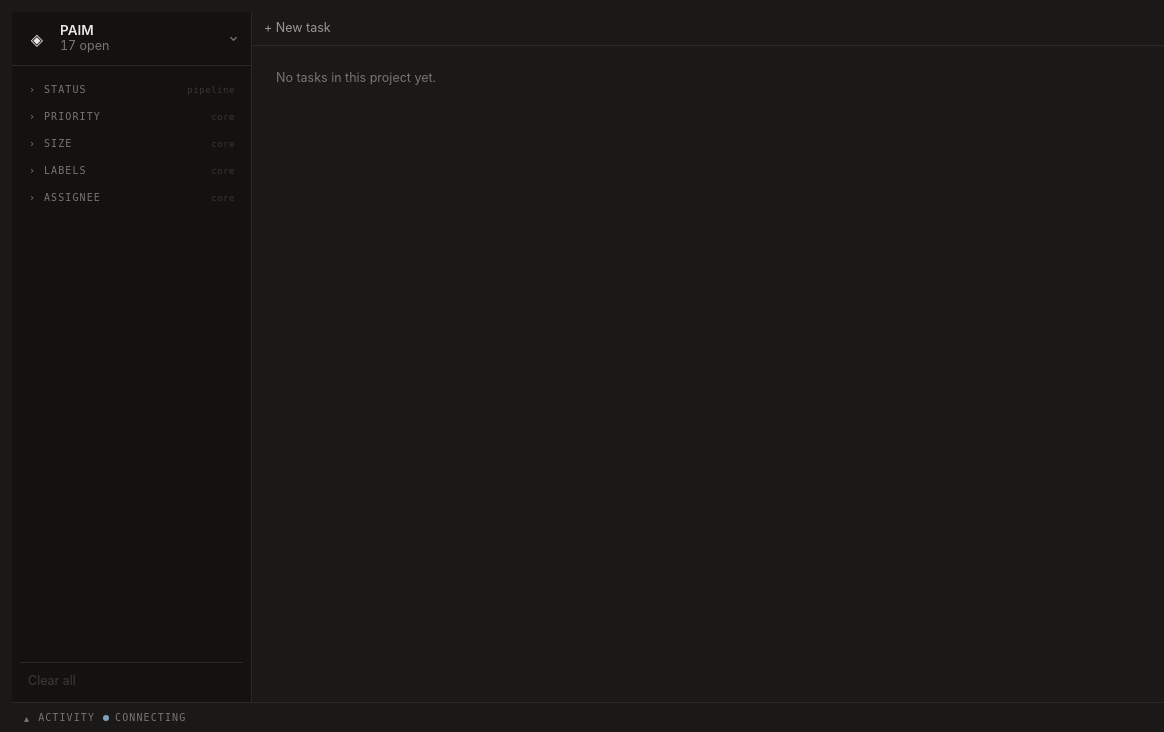
workspace switcher › lists the active projects with their open counts
Click the button "◈ PAIM 17 open": (132, 39) [12,12,251,66]
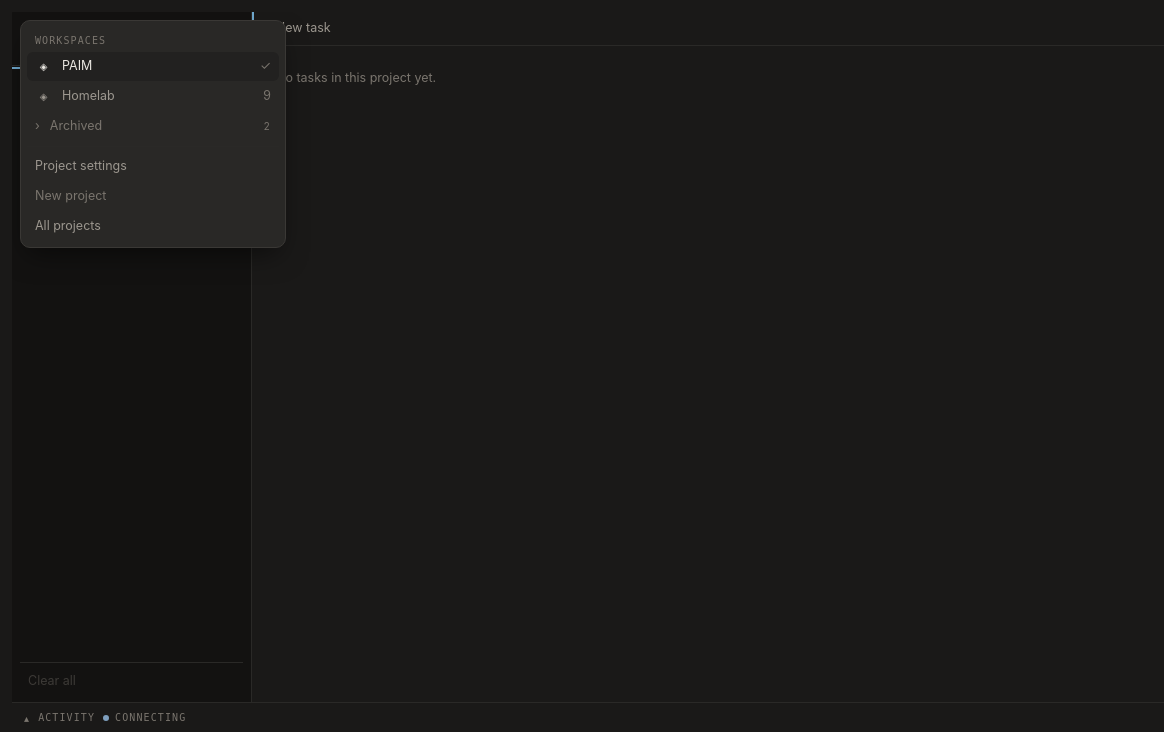
Result: the menu item "◈ PAIM ✓" is shown at [27,52,279,81]
Result: the menu item "◈ Homelab 9" is shown at [40,88,271,103]
